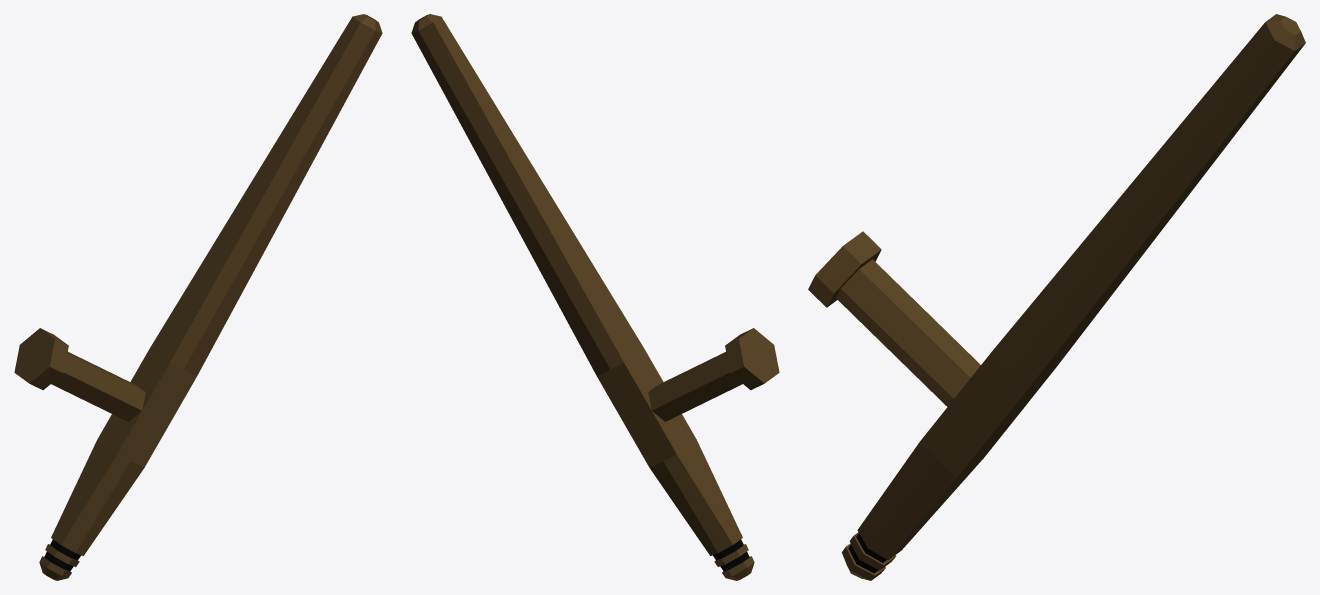
Rendered from Tonfa.fbx.
3 views of the same model, side by side, from view 1: azimuth 30°, elevation 25°; view 2: azimuth 150°, elevation 25°; view 3: azimuth 330°, elevation 25° (orthographic). The views are drawn at different scales.
Visible parts, largest first — view 1: Tonfa; view 2: Tonfa; view 3: Tonfa.
Part boxes in pixels (x1=…): Tonfa: x1=14, y1=14, x2=382, y2=580; Tonfa: x1=411, y1=14, x2=779, y2=580; Tonfa: x1=808, y1=14, x2=1305, y2=580.
Size of the model in its own units: 1225 by 1603 by 178.
